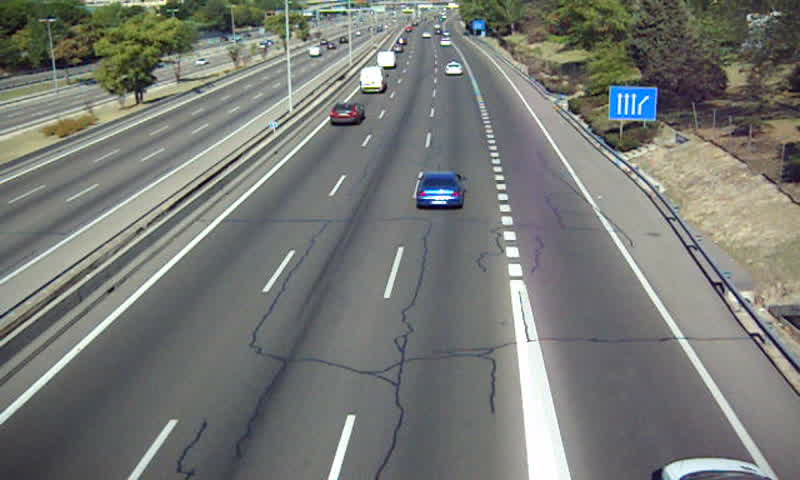car: (416, 170, 465, 209), (329, 101, 366, 126), (445, 63, 464, 76)
van: (359, 66, 390, 92), (377, 50, 395, 70)
